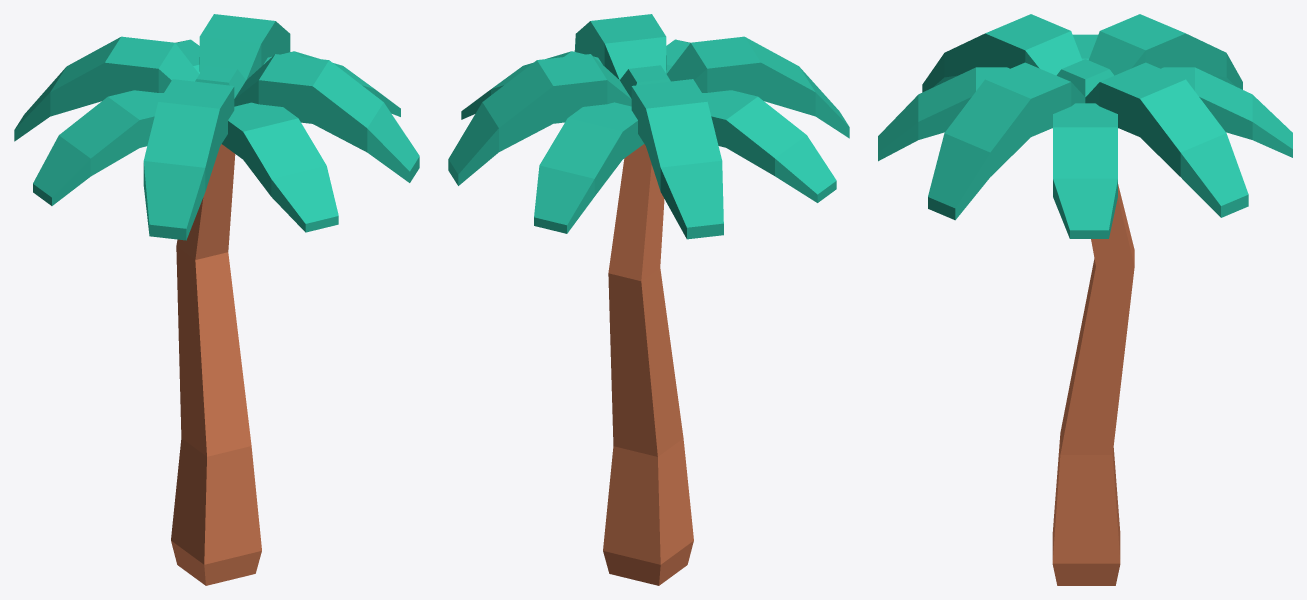
The model's file is tree-palm-detailed-tall.glb.
The picture shows the model from 3 angles, left to right: view 1: azimuth 30°, elevation 25°; view 2: azimuth 150°, elevation 25°; view 3: azimuth 270°, elevation 25°; orthographic projection.
Visible parts, largest first — view 1: leafs (×2), tree_palmDetailedTall; view 2: leafs (×2), tree_palmDetailedTall; view 3: leafs (×2), tree_palmDetailedTall.
Boxes of the visible parts, <box> form: leafs (×2): <box>14,14,419,240</box>; tree_palmDetailedTall: <box>171,144,261,585</box>; leafs (×2): <box>448,14,849,239</box>; tree_palmDetailedTall: <box>603,144,693,585</box>; leafs (×2): <box>878,14,1292,238</box>; tree_palmDetailedTall: <box>1052,184,1134,585</box>.
Bounding box in the file's own units: 1.03 × 1.42 × 1.03.
